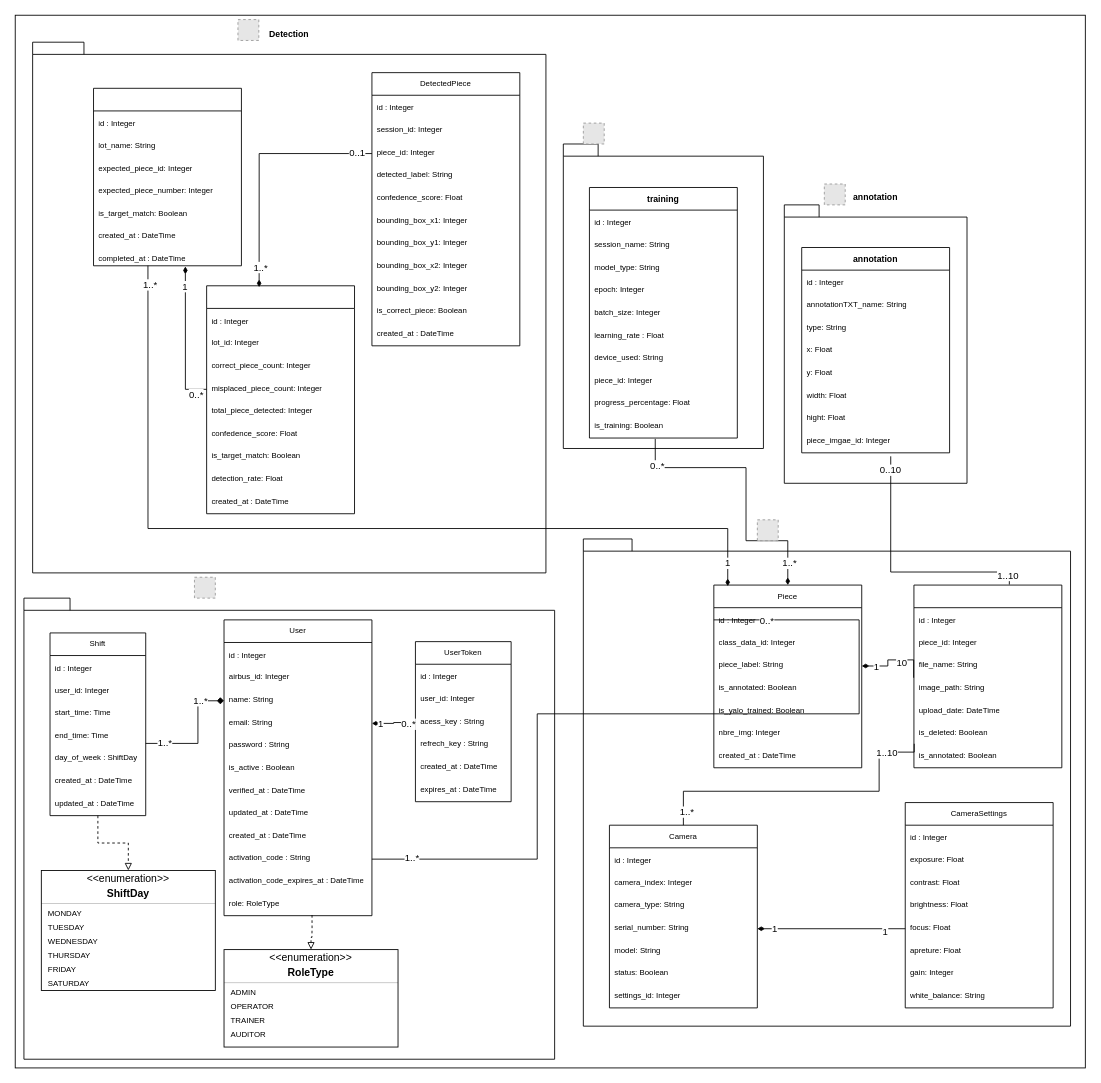
Image size: 1101x1083. Some labels were removed from this diagram. Grey dashed boxes stand in for pictures. The shapes that lost their labels are listed below. From the top down, each one's box as (x1, y1, x2, y2) in pixels, then its label:
(93, 87, 241, 266): DetectionLot
(562, 143, 763, 448): Training microservice
(206, 285, 355, 514): DetectionSession
(913, 584, 1062, 768): PieceImage
(582, 538, 1071, 1026): artifact keeper
(23, 597, 555, 1059): user management microservice
